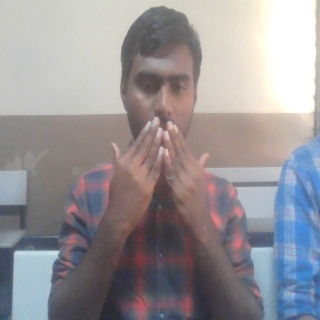Thank You: (104, 116, 219, 242)
